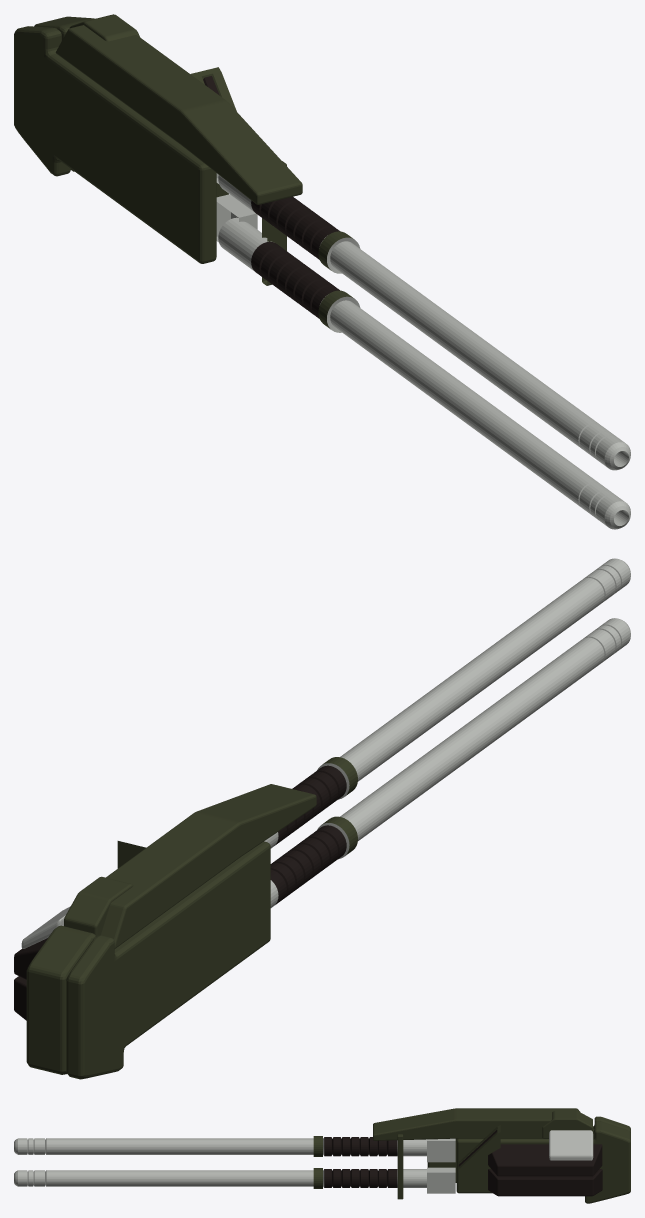
The model's file is DCDD-51.fbx.
3 views of the same model, one above another, from view 1: azimuth 30°, elevation 25°; view 2: azimuth 150°, elevation 25°; view 3: azimuth 270°, elevation 25° (orthographic). The views are drawn at different scales.
Visible parts, largest first — view 1: Cube.009; view 2: Cube.009; view 3: Cube.009.
Boxes of the visible parts, <box> form: Cube.009: <box>14,14,630,529</box>; Cube.009: <box>14,558,630,1079</box>; Cube.009: <box>14,1108,630,1203</box>.
Bounding box in the file's own units: 311 × 452 × 2985.
